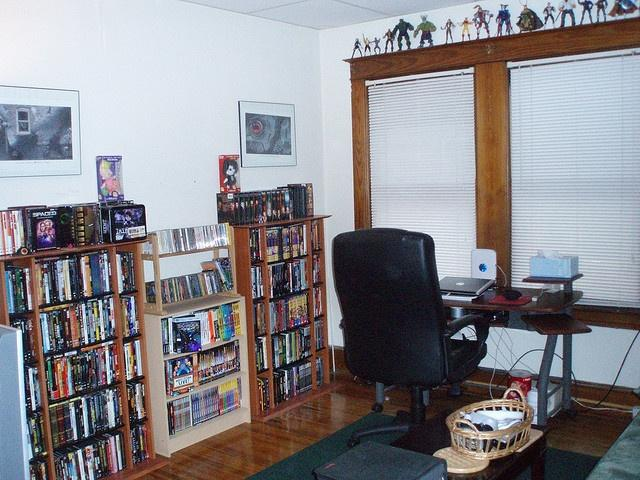Kursi: (331, 227, 489, 416)
